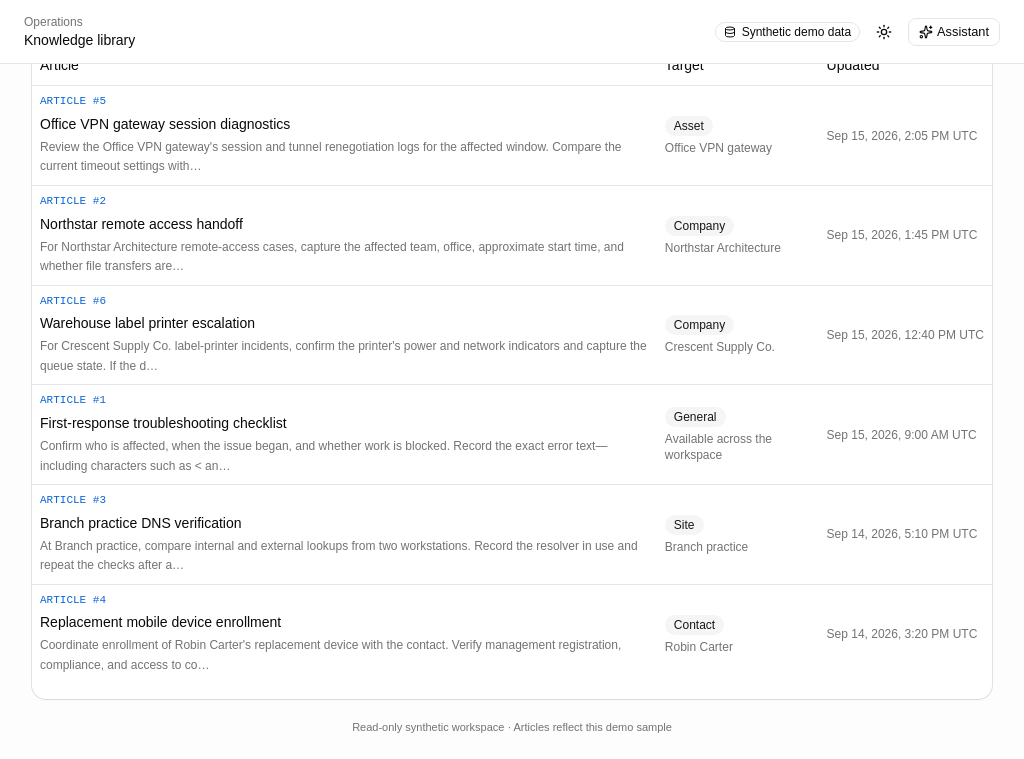
Test: knowledge article routes › navigates from the directory to detail and back, resetting center scroll
(page scrolled)
Step 1. Click the link with aria-label "Open article #5: Office VPN gateway session diagnostics" → [165, 124], box [40, 114, 290, 134]
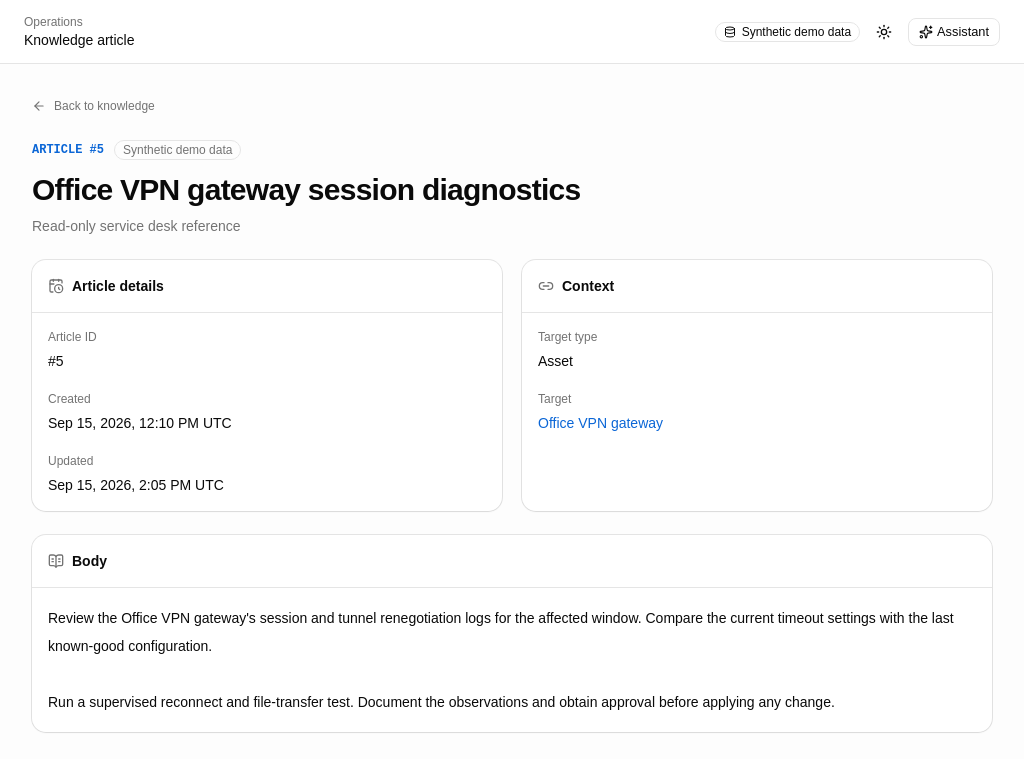
expect the heading "Office VPN gateway session diagnostics" is shown: met, box [32, 173, 580, 206]
Step 2. Click the link "Back to knowledge" → [93, 106], box [32, 98, 155, 114]
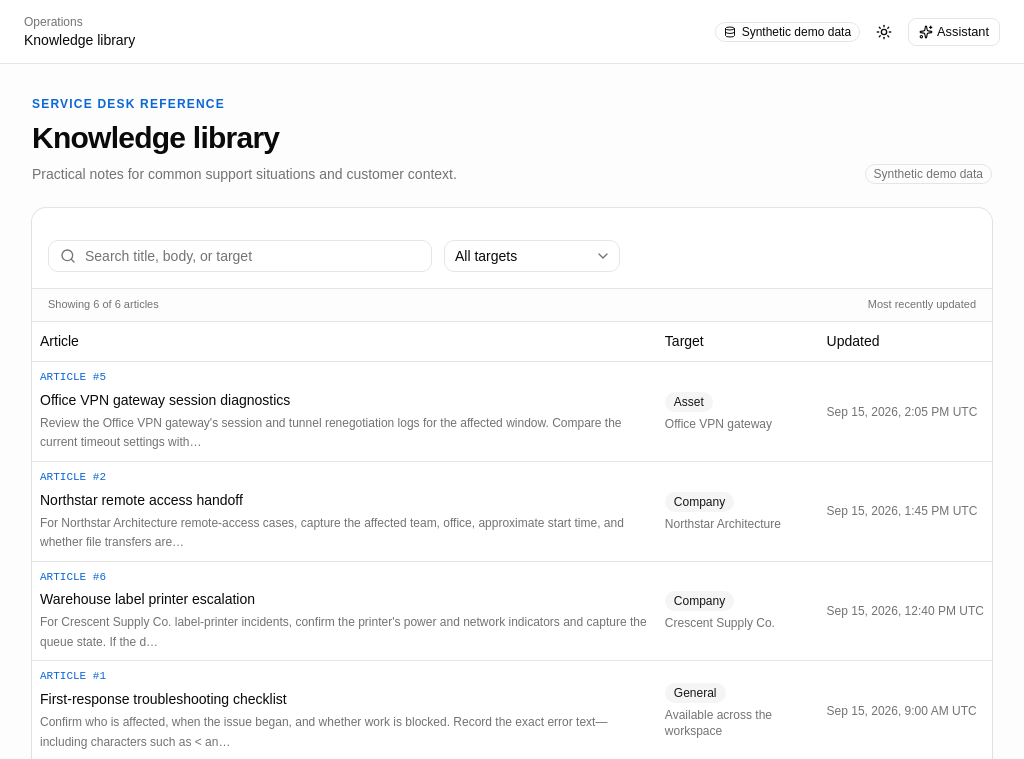
expect the heading "Knowledge library" is shown: met, box [32, 121, 279, 154]
